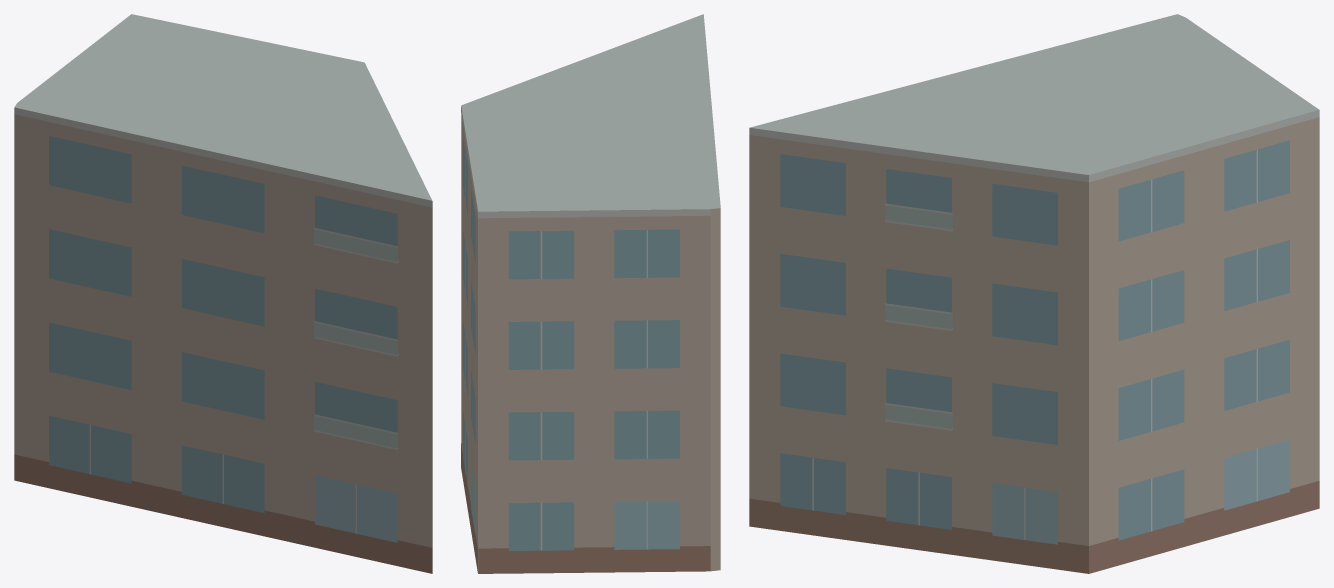
The model's file is survey-upis-32846466.glb.
3 renders of one model, left to right at view 1: azimuth 30°, elevation 25°; view 2: azimuth 150°, elevation 25°; view 3: azimuth 270°, elevation 25°, orthographic. The views are drawn at different scales.
Parts seen in each view (by area): view 1: survey-upis-32846466.tmp; view 2: survey-upis-32846466.tmp; view 3: survey-upis-32846466.tmp.
Boxes of the visible parts, <box> form: survey-upis-32846466.tmp: <box>14,14,432,573</box>; survey-upis-32846466.tmp: <box>461,14,720,573</box>; survey-upis-32846466.tmp: <box>749,14,1319,573</box>.
Size of the model in its own units: 11.62 by 13.4 by 17.37.
